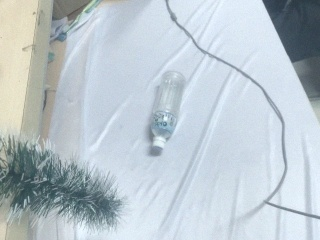bottle: (148, 70, 183, 152)
